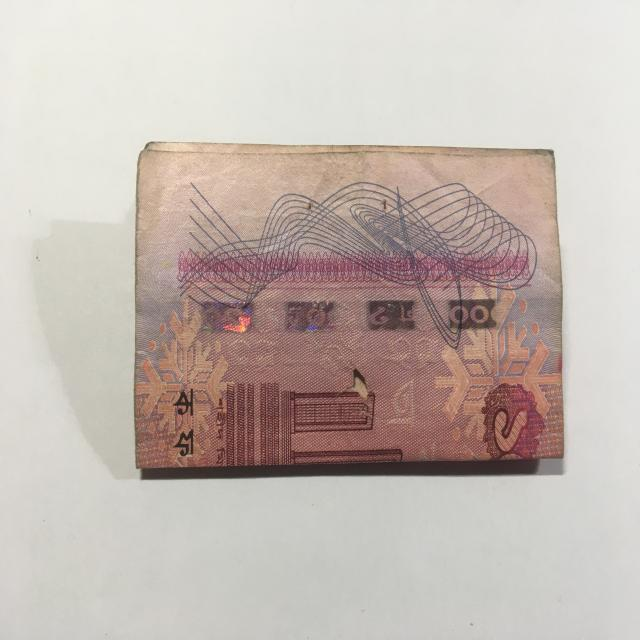Taka: (131, 134, 567, 471)
